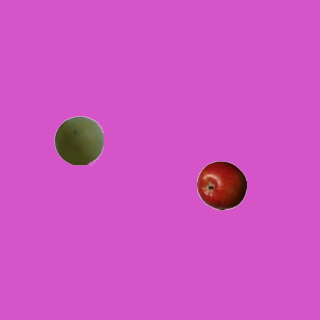Apple Braeburn: (196, 160, 246, 210)
Grape White 4: (53, 115, 103, 165)
